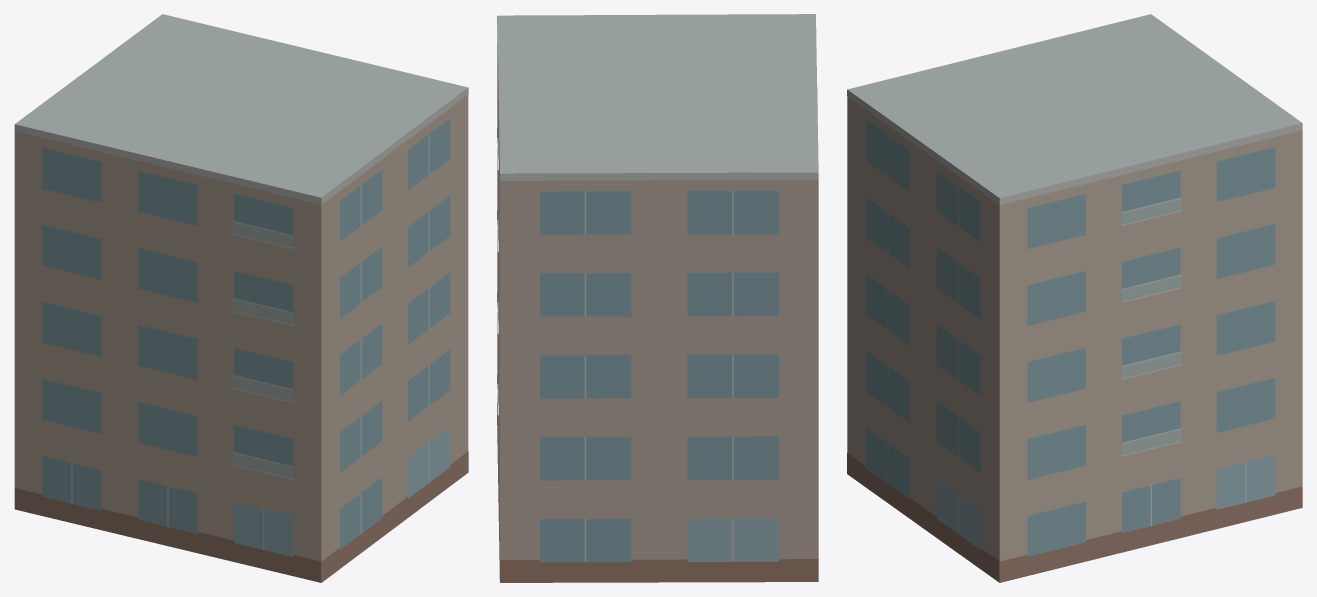
File: survey-upis-32948283.glb
The picture shows the model from 3 angles, left to right: view 1: azimuth 30°, elevation 25°; view 2: azimuth 150°, elevation 25°; view 3: azimuth 270°, elevation 25°; orthographic projection. The views are drawn at different scales.
Parts seen in each view (by area): view 1: survey-upis-32948283.tmp; view 2: survey-upis-32948283.tmp; view 3: survey-upis-32948283.tmp.
Boxes of the visible parts, x1,y1,x2,y2 form: survey-upis-32948283.tmp: (14,14,468,582); survey-upis-32948283.tmp: (497,14,818,582); survey-upis-32948283.tmp: (847,14,1302,582).
Bounding box in the file's own units: 13.78 × 13.4 × 14.39.
